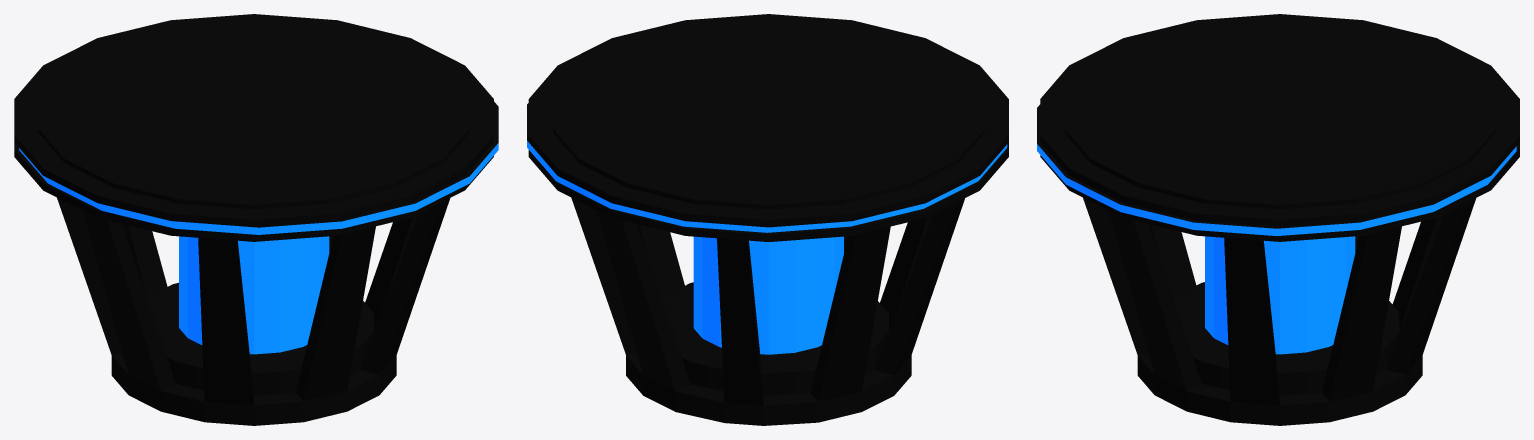
The model's file is Soccer_RoundTable.FBX.
3 views of the same model, side by side, from view 1: azimuth 30°, elevation 25°; view 2: azimuth 150°, elevation 25°; view 3: azimuth 270°, elevation 25° (orthographic).
Visible parts, largest first — view 1: RoundDesk; view 2: RoundDesk; view 3: RoundDesk.
Part boxes in pixels (x1,y1,x2,y2): RoundDesk: (14,14,498,425); RoundDesk: (527,14,1008,425); RoundDesk: (1037,14,1519,425).
Bounding box in the file's own units: 20.15 × 11.43 × 19.83.
